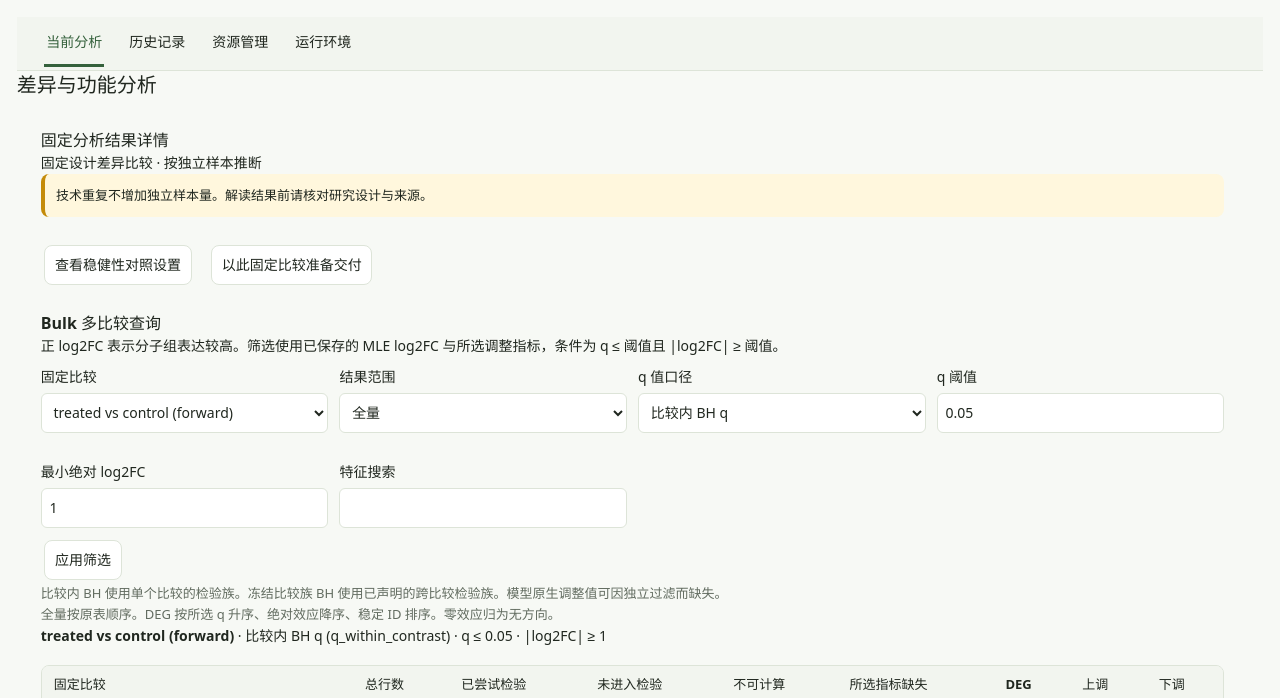
Test: reads the default contrast, preserves raw zero and NA, and searches exact stable IDs across comparisons with GET
Expected: the dropdown labelled "固定比较" shows "treated vs control (forward)", x1=41 y1=393 x2=328 y2=433
Type "ENS0001" into the field labelled "特征搜索" at (483, 508), box x1=339 y1=488 x2=627 y2=528
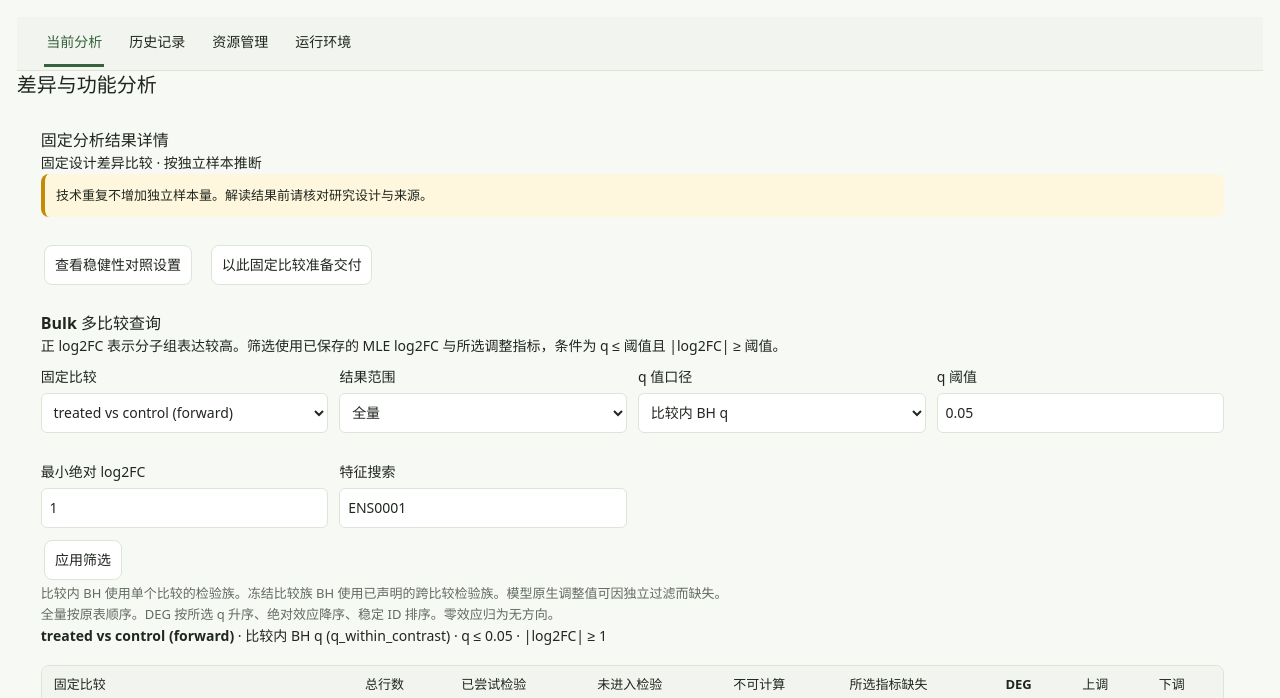
Click the button "应用筛选" at (83, 560), box x1=44 y1=540 x2=122 y2=580
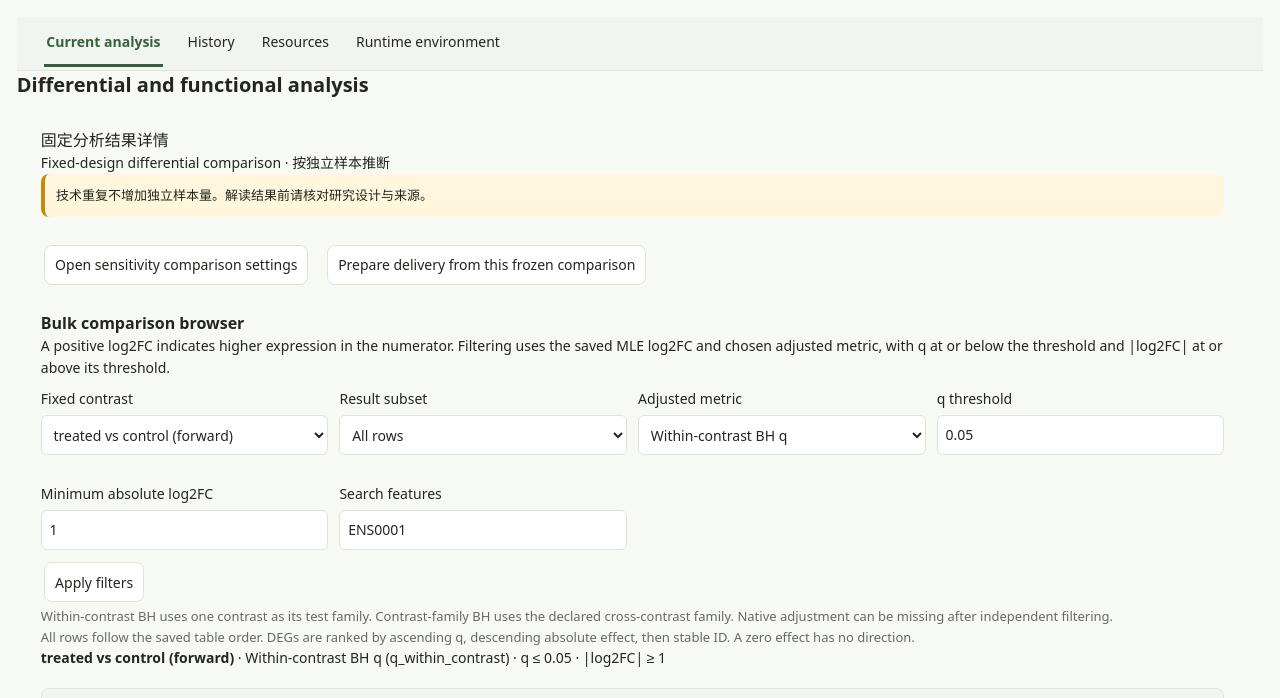
Expected: the dropdown labelled "Fixed contrast" shows "treated vs control (forward)", x1=41 y1=415 x2=328 y2=455
Now the button "Apply filters" is shown, box x1=44 y1=562 x2=144 y2=602
